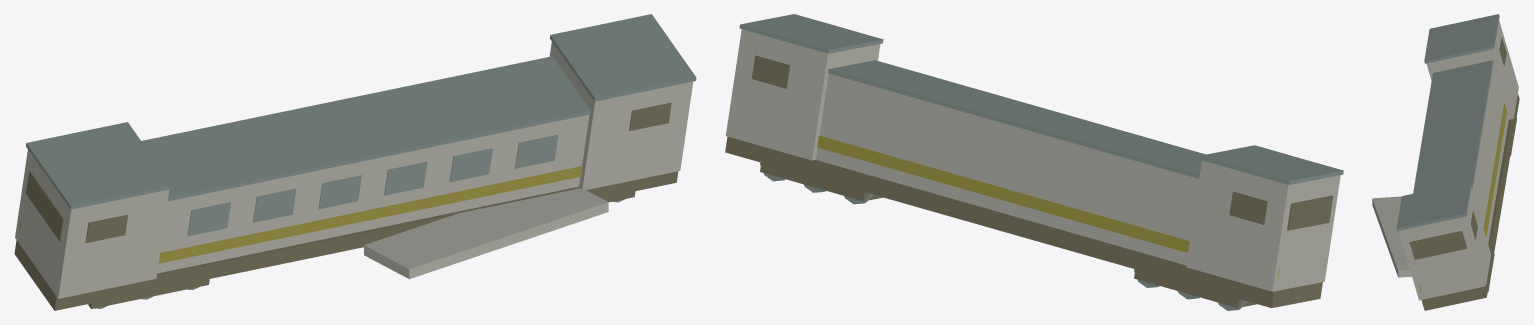
Rendered from SM_Locomotora_v1_Ladeada_LOD0.fbx.
The picture shows the model from 3 angles, left to right: view 1: azimuth 30°, elevation 25°; view 2: azimuth 150°, elevation 25°; view 3: azimuth 270°, elevation 25°; orthographic projection. The views are drawn at different scales.
Visible parts, largest first — view 1: SM_aqui_paso_algo_v1_LOD0; view 2: SM_aqui_paso_algo_v1_LOD0; view 3: SM_aqui_paso_algo_v1_LOD0.
Boxes of the visible parts, box(x1,y1,x2,y2) form: SM_aqui_paso_algo_v1_LOD0: box(14, 14, 696, 310); SM_aqui_paso_algo_v1_LOD0: box(725, 14, 1343, 310); SM_aqui_paso_algo_v1_LOD0: box(1372, 14, 1519, 310).
Size of the model in its own units: 19.26 by 4.82 by 5.94.
